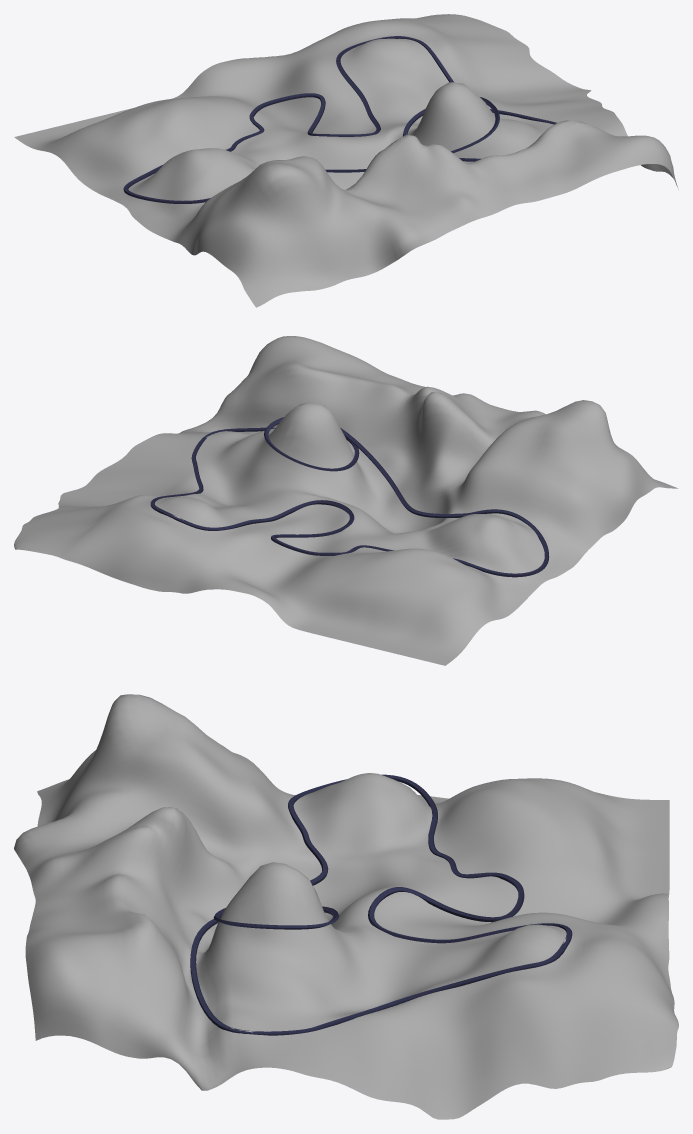
Rendered from First text terrain and track3.fbx.
3 views of the same model, one above another, from view 1: azimuth 30°, elevation 25°; view 2: azimuth 150°, elevation 25°; view 3: azimuth 270°, elevation 25° (orthographic). The views are drawn at different scales.
Visible parts, largest first — view 1: pPlane2, Track_builder1; view 2: pPlane2, Track_builder1; view 3: pPlane2, Track_builder1.
Boxes of the visible parts, left/top/right/bottom form: pPlane2: left=14, top=14, right=678, bottom=307; Track_builder1: left=123, top=36, right=556, bottom=203; pPlane2: left=14, top=336, right=678, bottom=665; Track_builder1: left=150, top=417, right=549, bottom=577; pPlane2: left=14, top=694, right=678, bottom=1119; Track_builder1: left=190, top=774, right=572, bottom=1035.
Bounding box in the file's own units: 1124 × 264 × 1010.
